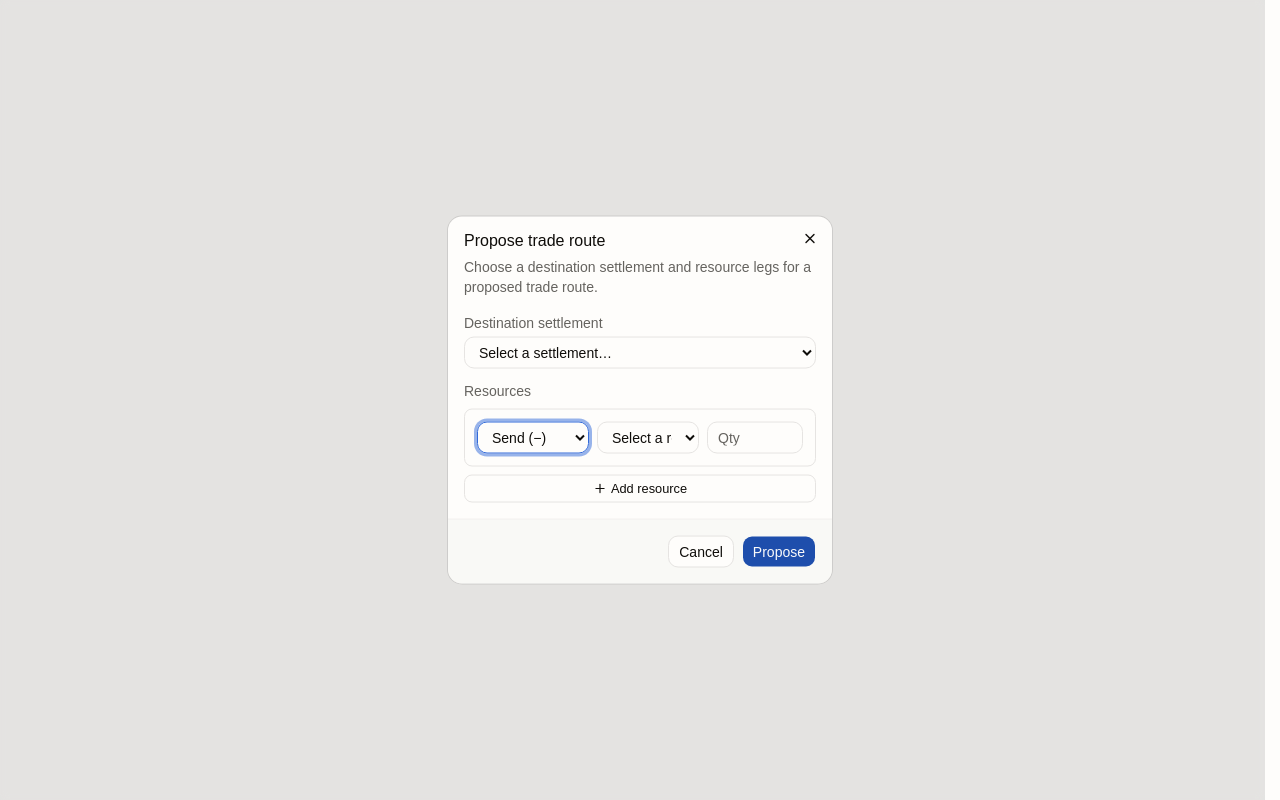
ProposeTradeRouteDialog › trade policy (#1087) — blocks and explains a closed destination nation
Select "Far Settlement (Far Nation)" in the dropdown labelled "Destination settlement": (640, 352) [464,336,816,368]
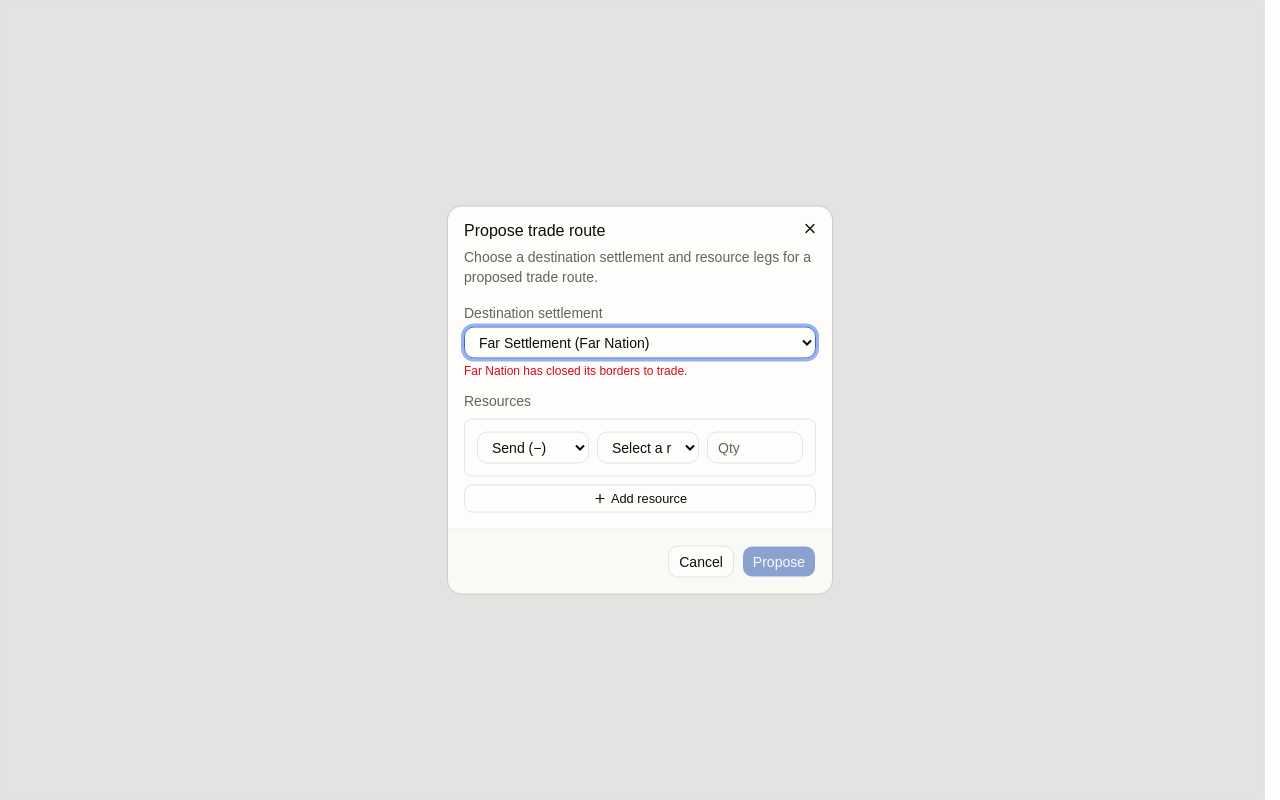
Check: the text "Far Nation has closed its borders to trade." is shown, box [464,364,688,378]
Check: the button "Propose" is disabled, box [742,546,816,578]
